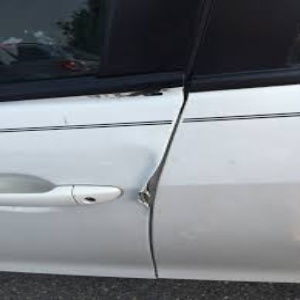door: (127, 147, 176, 221)
